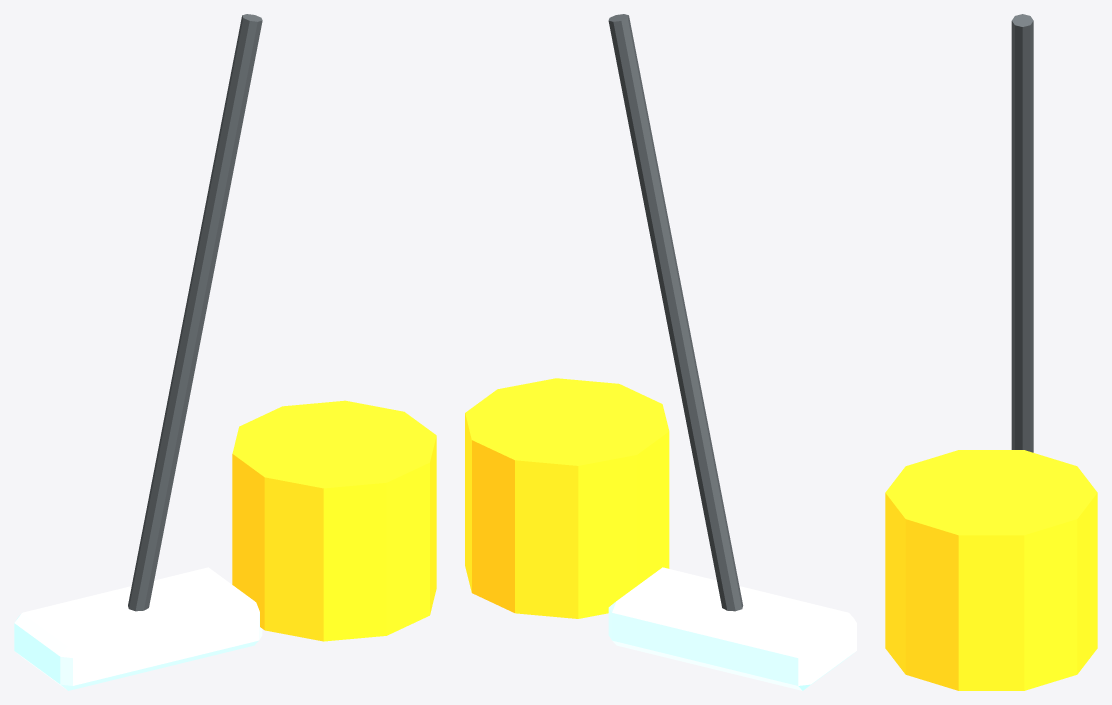
Rendered from cleaning_kit.glb.
The picture shows the model from 3 angles, left to right: view 1: azimuth 30°, elevation 25°; view 2: azimuth 150°, elevation 25°; view 3: azimuth 270°, elevation 25°; orthographic projection.
Visible parts, largest first — view 1: Bucket, MopHead, MopHandle; view 2: Bucket, MopHead, MopHandle; view 3: Bucket, MopHandle.
Part boxes in pixels (bbox=[...]): Bucket: bbox=[232, 400, 436, 641]; MopHead: bbox=[14, 567, 262, 690]; MopHandle: bbox=[128, 14, 262, 611]; Bucket: bbox=[465, 378, 669, 618]; MopHead: bbox=[608, 567, 856, 690]; MopHandle: bbox=[608, 14, 743, 611]; Bucket: bbox=[885, 450, 1097, 690]; MopHandle: bbox=[1011, 14, 1033, 452].
Size of the model in its own units: 1.38 by 2.18 by 0.68.
